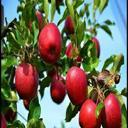apple: (15, 61, 38, 98)
